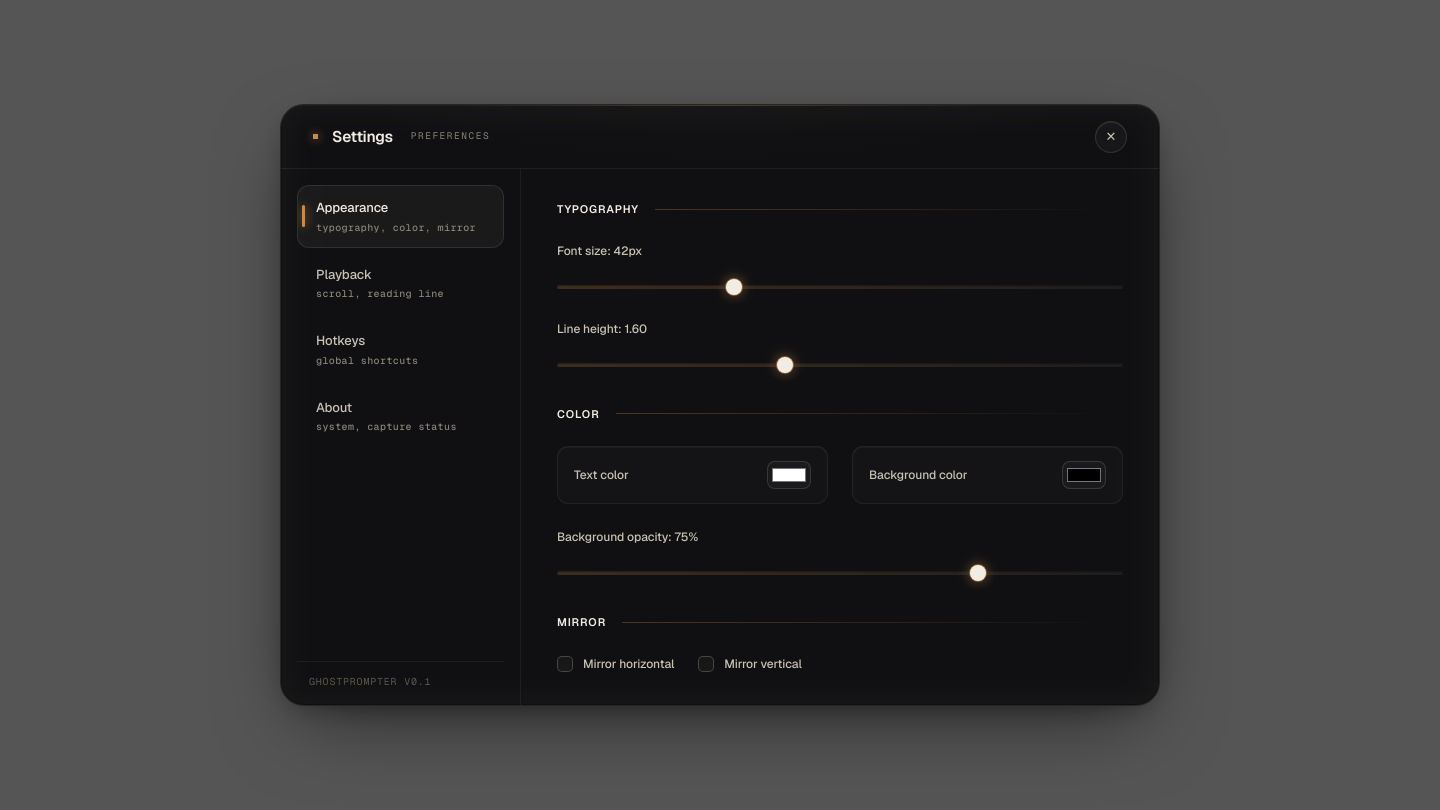
Test: <SettingsModal /> › Hotkeys tab shows rows for all actions
Click the button "Hotkeys global shortcuts" at (400, 350), box [297,318,504,381]
(page scrolled)
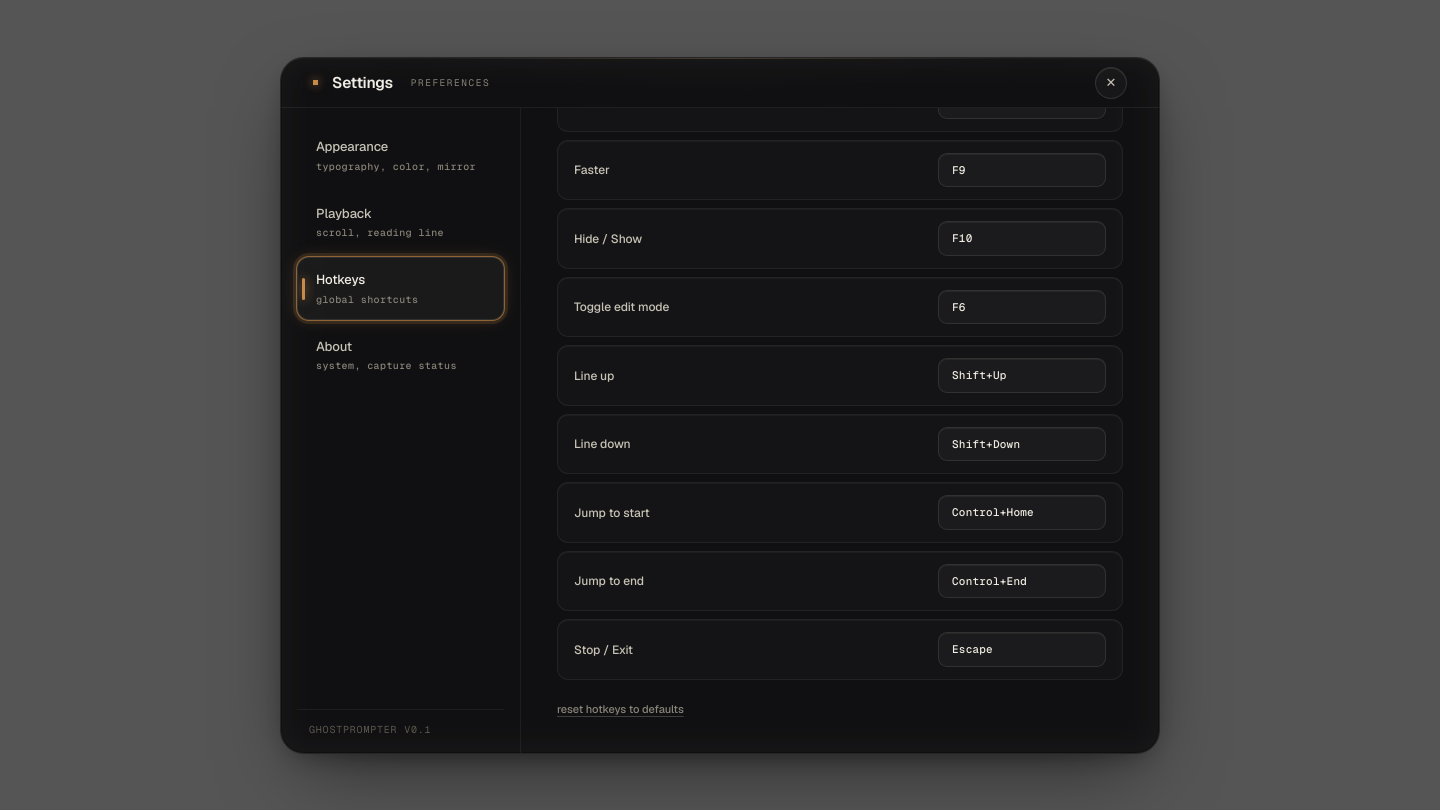
Now the text "Faster" is shown, box [574,161,610,179]
Now the text "Hide / Show" is shown, box [574,229,642,247]
Now the text "Toggle edit mode" is shown, box [574,298,669,316]
